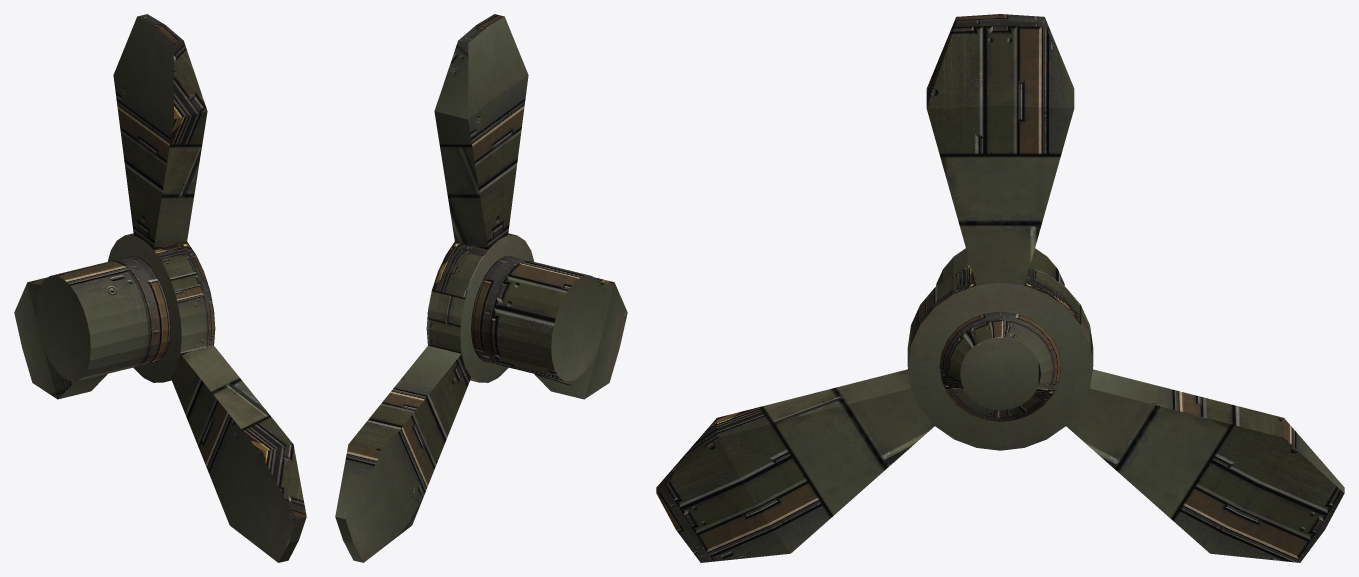
The model's file is Turbine.glb.
3 renders of one model, left to right at view 1: azimuth 30°, elevation 25°; view 2: azimuth 150°, elevation 25°; view 3: azimuth 270°, elevation 25°, orthographic. The views are drawn at different scales.
Parts seen in each view (by area): view 1: Cylinder.001; view 2: Cylinder.001; view 3: Cylinder.001.
Part boxes in pixels (<box>): Cylinder.001: <box>14,14,306,562</box>; Cylinder.001: <box>335,14,627,562</box>; Cylinder.001: <box>656,14,1344,562</box>.
Bounding box in the file's own units: 2.95 × 9.98 × 11.46.
1 material, 1 textured.
